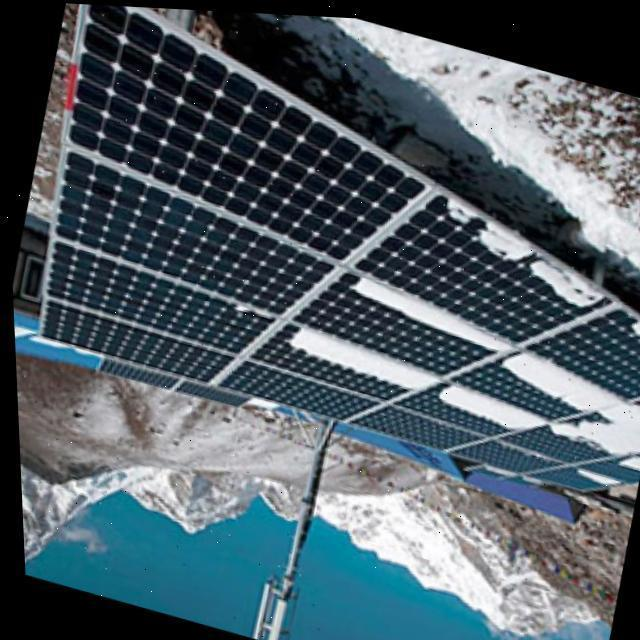Anomaly Solar Panel: (350, 166, 625, 369), (289, 255, 518, 394), (249, 313, 448, 414), (451, 327, 622, 441), (528, 274, 640, 403), (498, 392, 640, 488), (394, 365, 545, 450), (526, 451, 622, 497), (571, 451, 639, 488)
Normal Solar Panel: (39, 3, 449, 284), (42, 151, 338, 330), (40, 243, 274, 362), (38, 299, 234, 389), (214, 350, 384, 431), (348, 391, 489, 460)
Snow: (343, 269, 523, 357), (494, 333, 626, 426), (287, 323, 441, 396), (538, 395, 640, 470), (432, 374, 546, 441), (514, 241, 607, 320), (468, 211, 536, 267), (572, 464, 622, 484), (441, 199, 475, 222), (614, 445, 639, 470), (623, 305, 640, 333)
